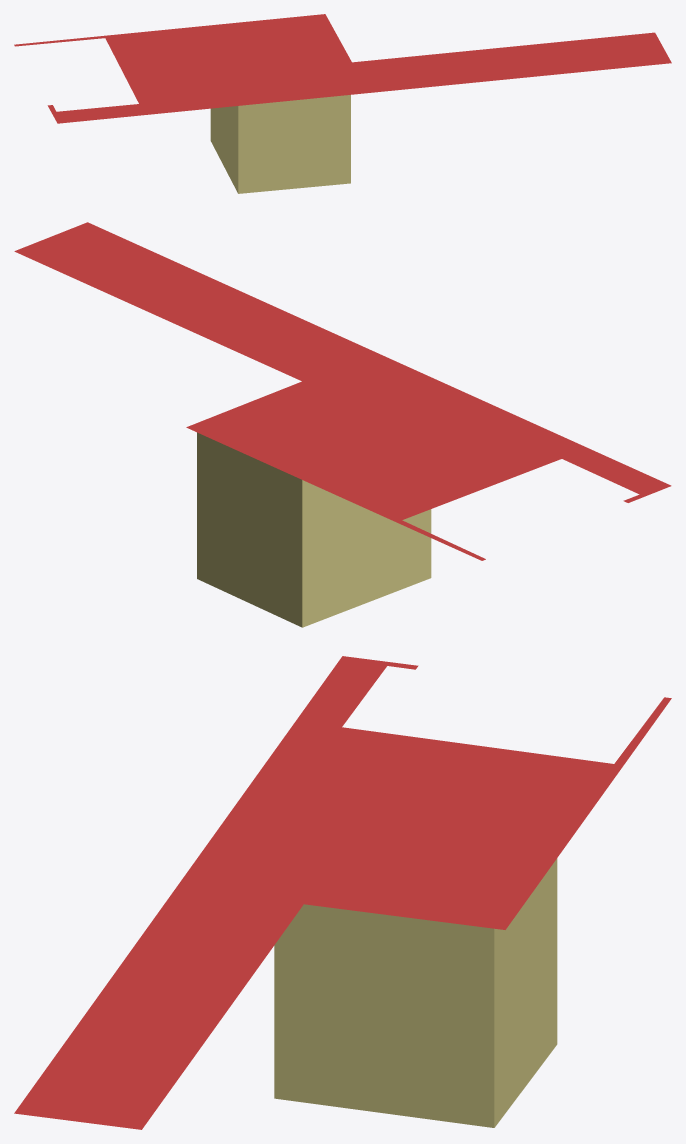
The picture shows the model from 3 angles, top to bottom: view 1: azimuth 30°, elevation 25°; view 2: azimuth 150°, elevation 25°; view 3: azimuth 270°, elevation 25°; orthographic projection. The views are drawn at different scales.
Parts seen in each view (by area): view 1: group_3, group_5, group_4; view 2: group_3, group_5, group_4; view 3: group_3, group_5, group_4.
Part boxes in pixels (x1=…): group_3: x1=14, y1=14, x2=671, y2=123; group_5: x1=210, y1=95, x2=350, y2=193; group_4: x1=16, y1=20, x2=326, y2=122; group_3: x1=14, y1=222, x2=670, y2=560; group_5: x1=197, y1=432, x2=431, y2=627; group_4: x1=209, y1=378, x2=669, y2=560; group_3: x1=14, y1=656, x2=671, y2=1129; group_5: x1=274, y1=858, x2=557, y2=1127; group_4: x1=277, y1=656, x2=668, y2=915.
Bounding box in the file's own units: 30.25 × 17.75 × 6.02.
